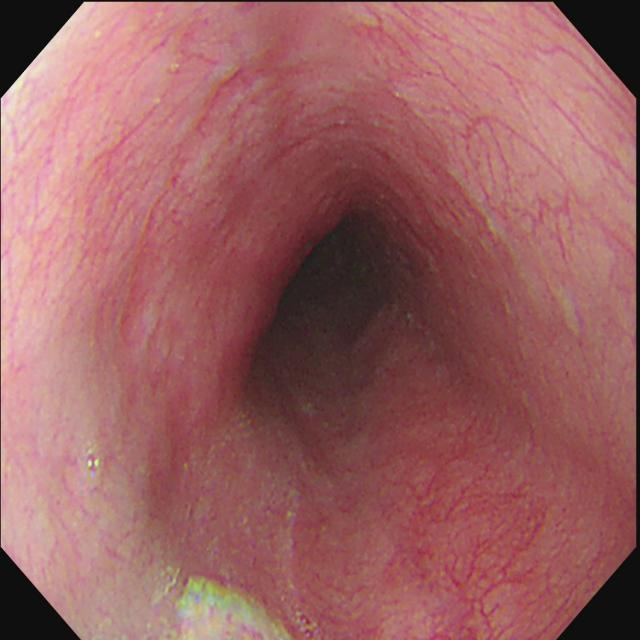E: (269, 206, 372, 315)
J: (177, 577, 288, 640)
U: (179, 579, 283, 639)
